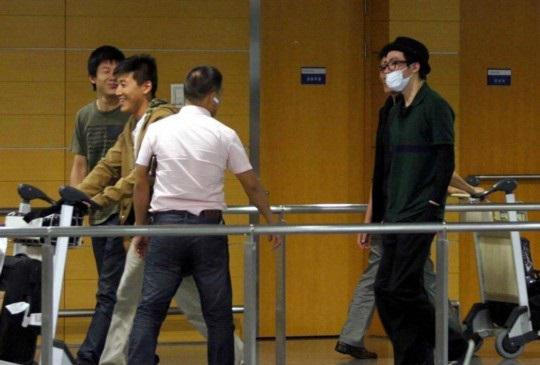NONE: (116, 81, 143, 114), (100, 65, 125, 96)
WRONG: (385, 56, 415, 90)
